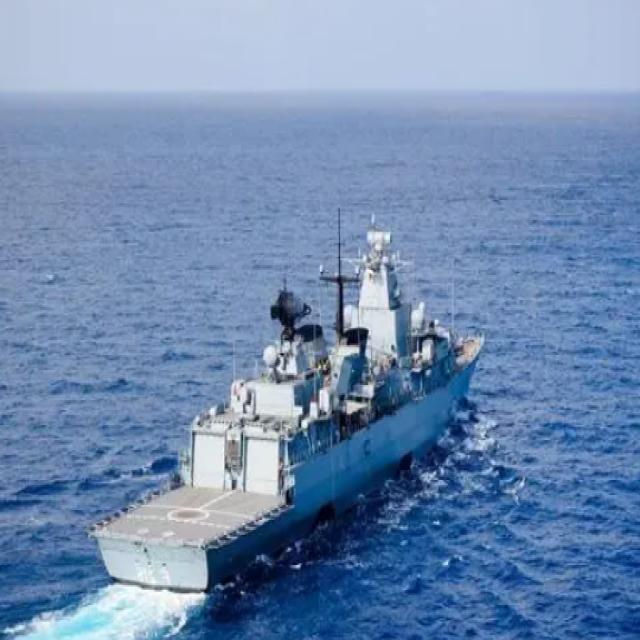navalvessels: (88, 202, 490, 598)
